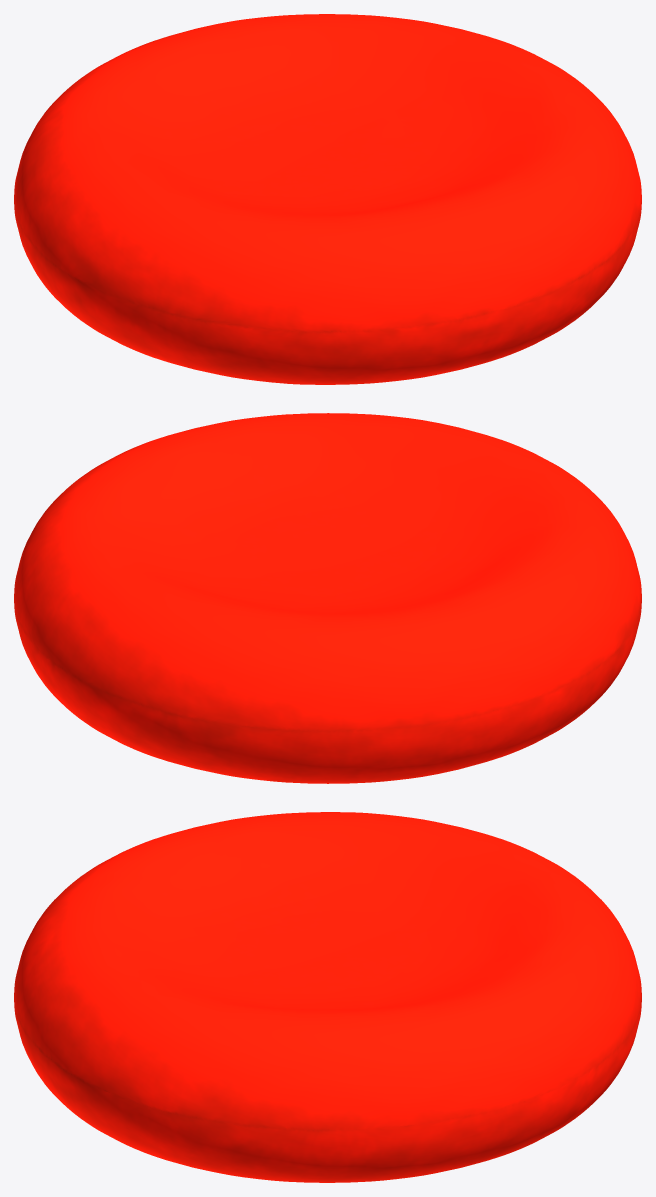
3 renders of one model, top to bottom at view 1: azimuth 30°, elevation 25°; view 2: azimuth 150°, elevation 25°; view 3: azimuth 270°, elevation 25°, orthographic.
Visible parts, largest first — view 1: BloodCell_geometry.005; view 2: BloodCell_geometry.005; view 3: BloodCell_geometry.005.
Boxes of the visible parts, x1,y1,x2,y2 form: BloodCell_geometry.005: (14, 14, 641, 384); BloodCell_geometry.005: (14, 413, 641, 783); BloodCell_geometry.005: (14, 812, 641, 1182).
Size of the model in its own units: 2.62 by 0.734 by 2.62.
